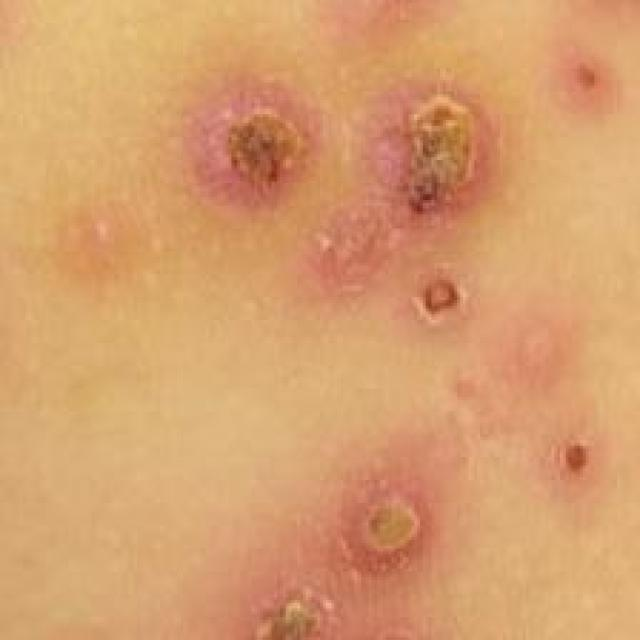others: (100, 65, 630, 632)
